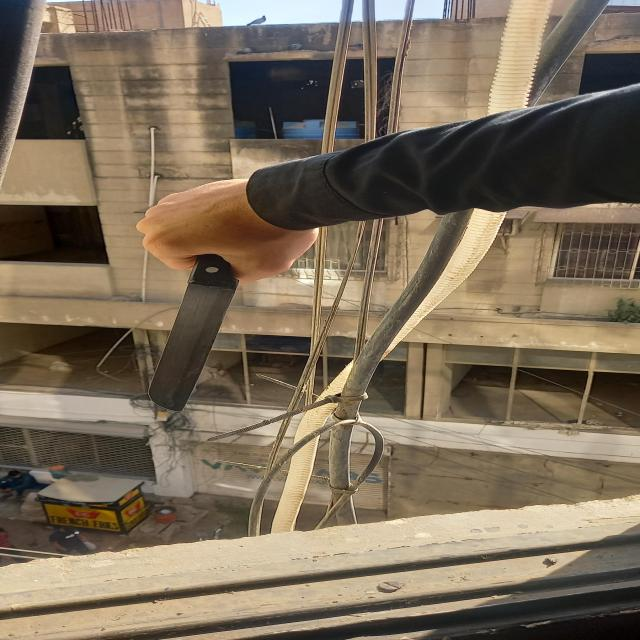Knife: (149, 251, 240, 411)
Person: (134, 83, 640, 284)
